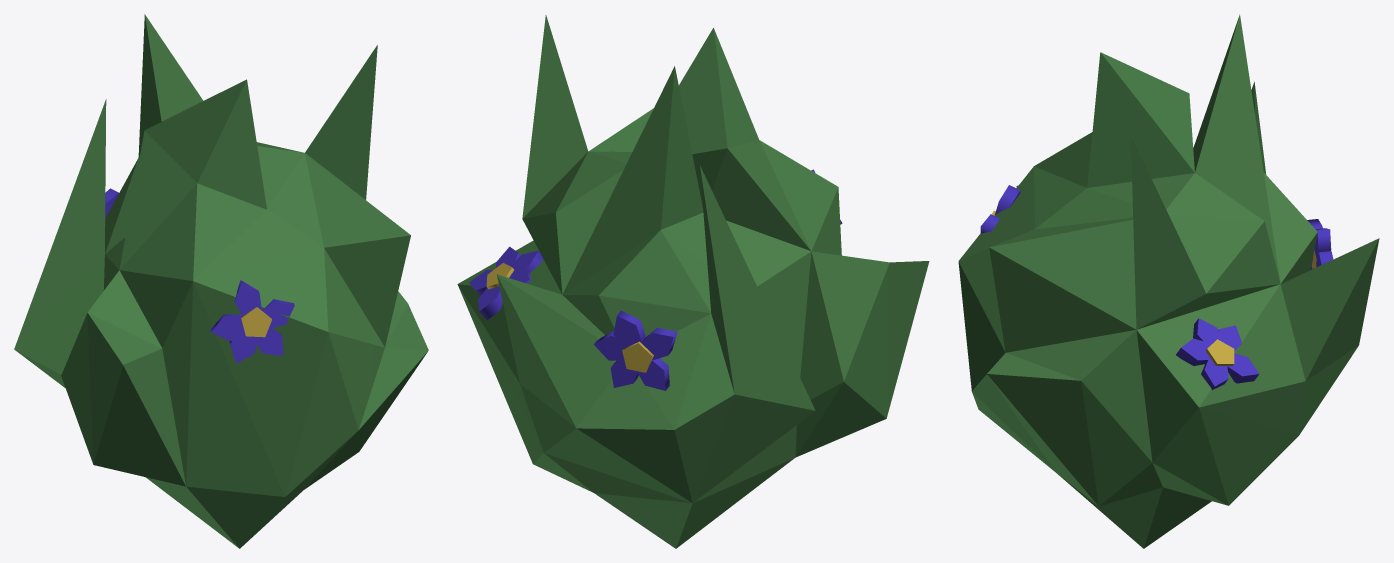
File: Flowerplant.fbx
The picture shows the model from 3 angles, left to right: view 1: azimuth 30°, elevation 25°; view 2: azimuth 150°, elevation 25°; view 3: azimuth 270°, elevation 25°; orthographic projection. The views are drawn at different scales.
Parts seen in each view (by area): view 1: Flowerplant; view 2: Flowerplant; view 3: Flowerplant.
Part boxes in pixels (box(x1,y1,x2,y2)): Flowerplant: box(14, 14, 428, 548); Flowerplant: box(457, 15, 929, 548); Flowerplant: box(958, 14, 1379, 548).
Bounding box in the file's own units: 33.21 × 44.74 × 33.34.
